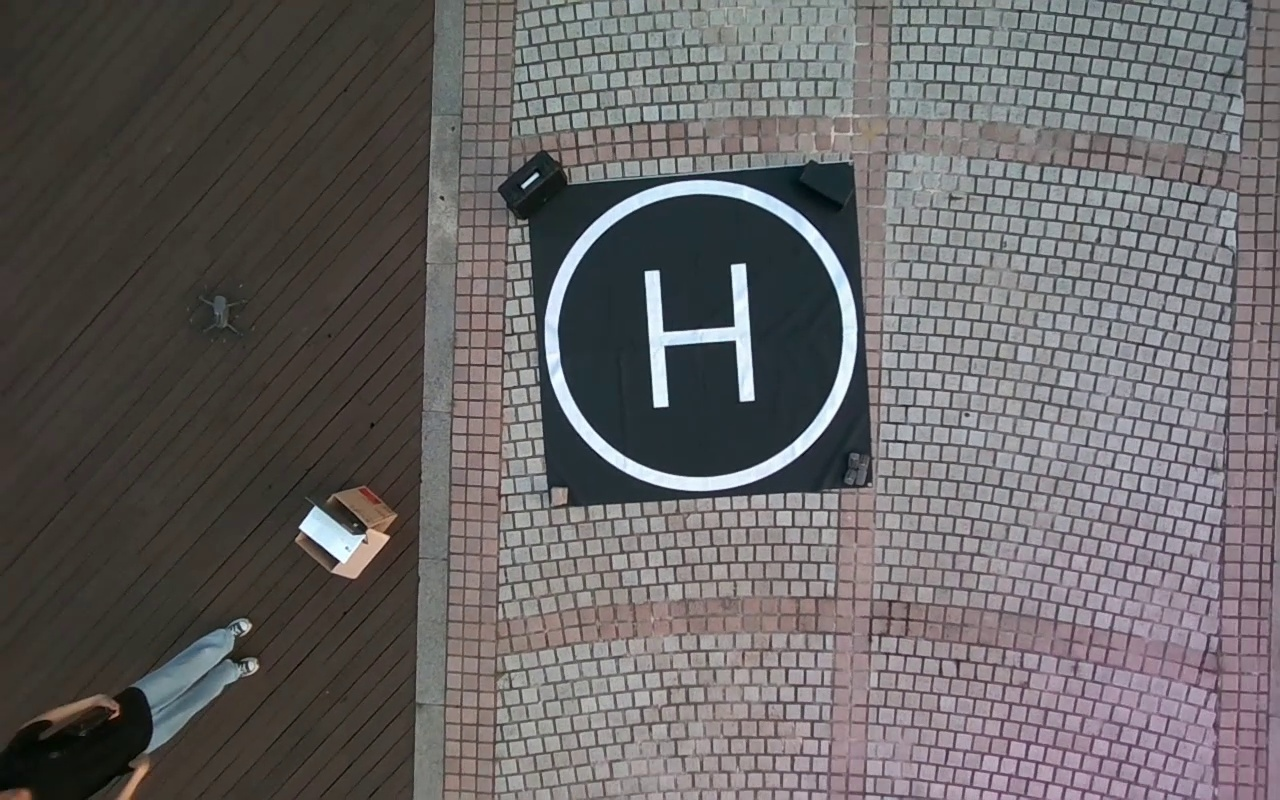H: (643, 263, 757, 409)
heliport: (543, 179, 858, 489)
